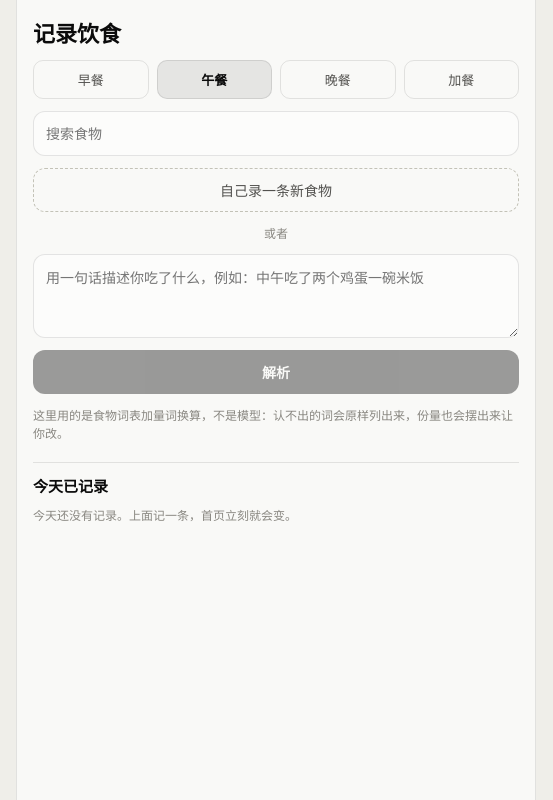
Test case: 添加饮食页 › 待确认列表可以整条移除
This screenshot has width=553, height=800.
Type "鸡蛋" into the field with placeholder "搜索食物" at coordinates (276, 134), box top-left (33, 111), bottom-right (519, 156)
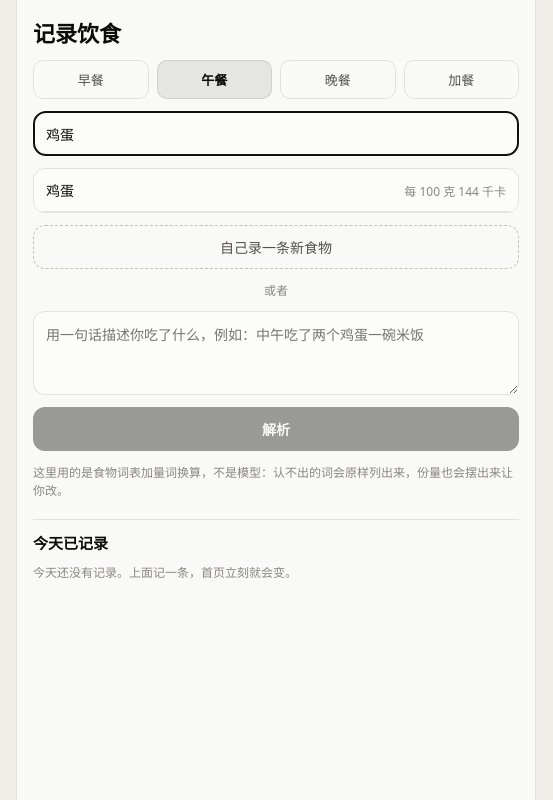
Click the button "鸡蛋 每 100 克 144 千卡" at coordinates (431, 192), box top-left (34, 169), bottom-right (518, 212)
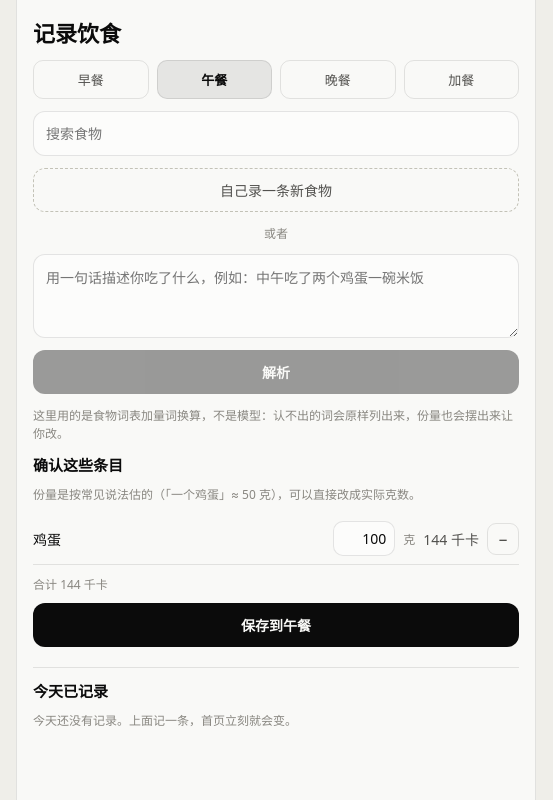
Click the button named "移除鸡蛋" at coordinates (503, 538), box top-left (487, 522), bottom-right (519, 554)
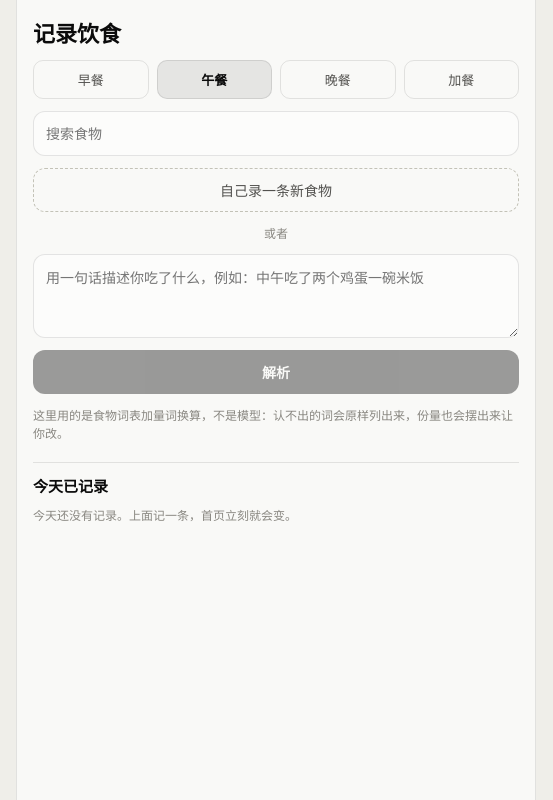
Result: the heading "确认这些条目" is gone
